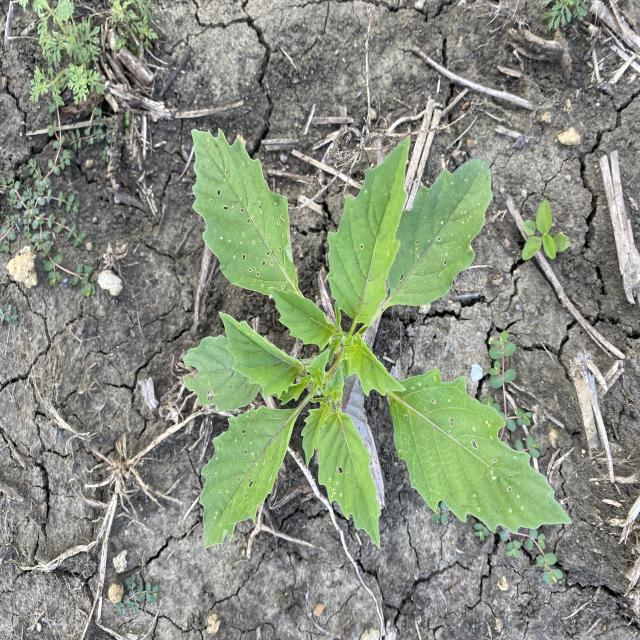CutleafGroundcherry: (182, 126, 575, 551)
PricklySida: (518, 195, 572, 266)
Ragweed: (12, 2, 160, 111)
SpottedSpurge: (431, 330, 564, 585), (0, 86, 119, 302)
